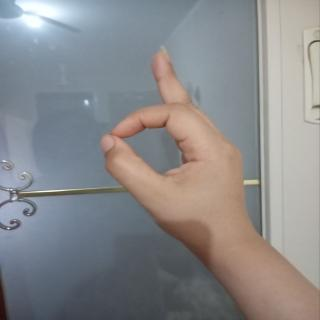Space: (89, 39, 254, 256)
